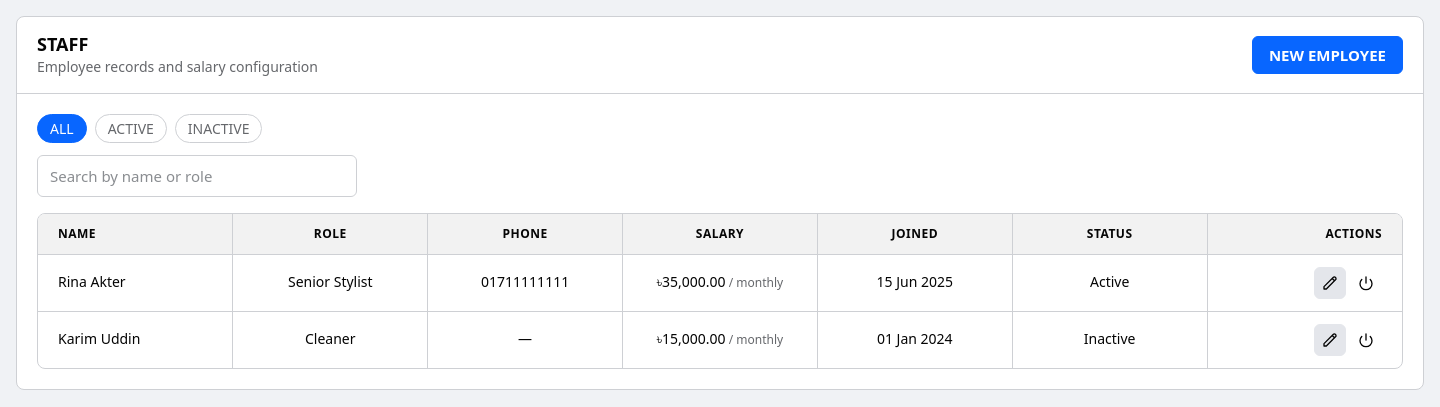
Test: StaffPage › filters by status
The width and height of the screenshot is (1440, 407).
Expected: the text "Rina Akter" is shown, [58,272,126,291]
What coordinates should you click on to do the following:
click the button "Active"
I would click on:
 (131, 128)
Its box is [95,114,167,143].
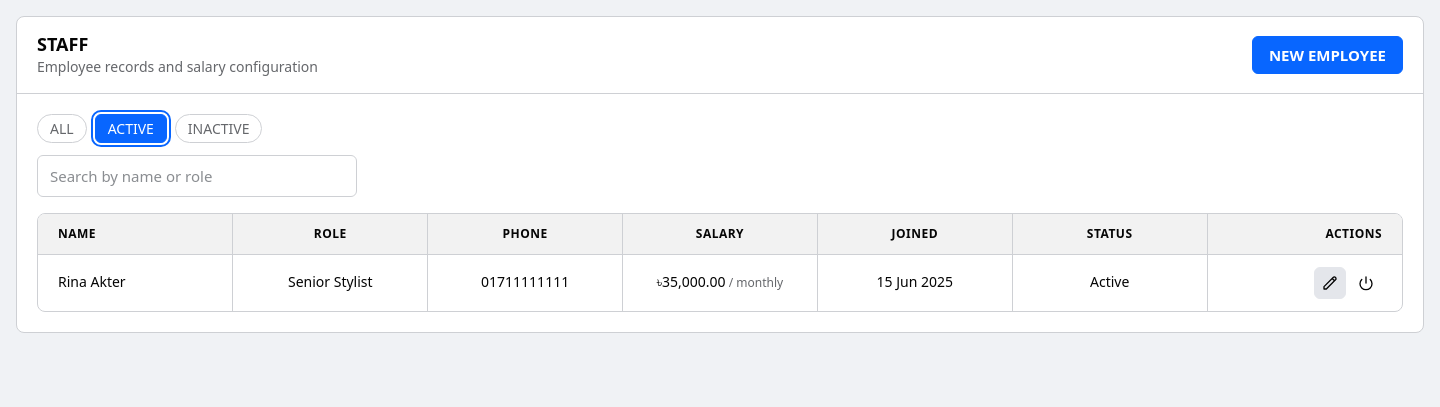
Expected: the text "Rina Akter" is shown, [58,272,126,291]
Expected: the text "Karim Uddin" is gone
